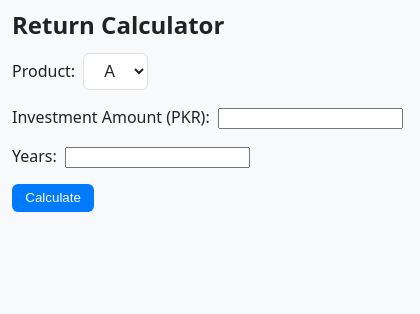
Test: ReturnCalculatorModal › renders product select and calculates return
Type "10000" into the number field labelled "Investment Amount (PKR):" at {"x": 310, "y": 118}, box [218, 108, 403, 129]
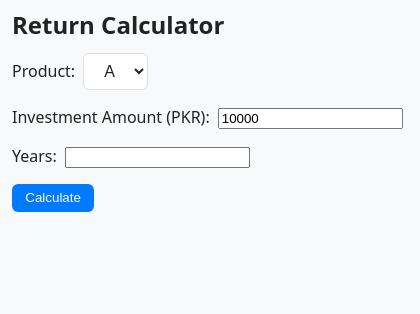
Type "2" into the number field labelled "Years:" at {"x": 157, "y": 157}, box [65, 147, 250, 168]
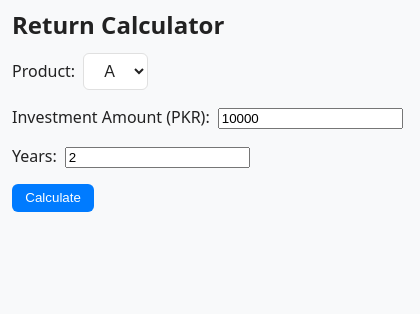
Click the button "Calculate" at {"x": 53, "y": 198}, box [12, 184, 94, 212]
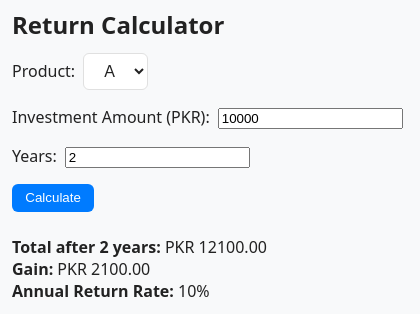
Now the text "Total after 2 years:" is shown, box [12, 236, 161, 258]
Now the text "Gain:" is shown, box [12, 258, 53, 280]
